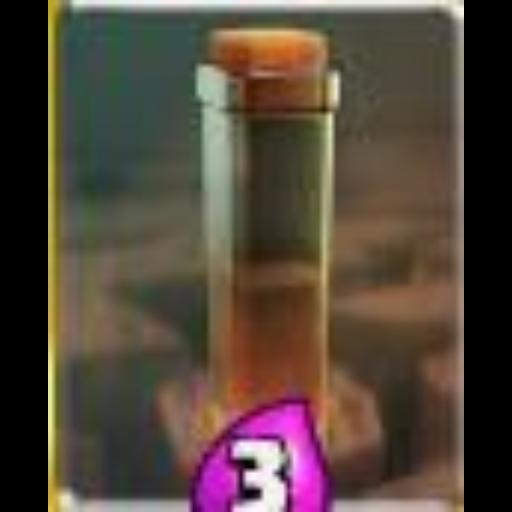earthquake: (59, 9, 464, 512)
